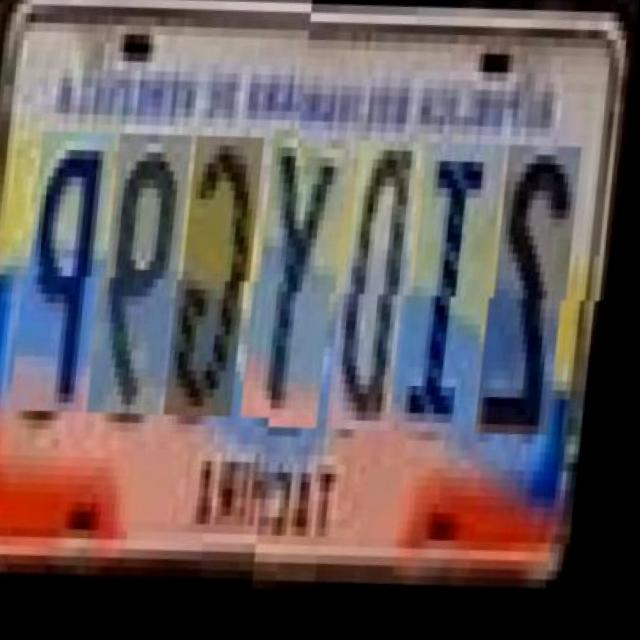2: (486, 148, 581, 442)
9: (95, 148, 190, 434)
d: (336, 145, 422, 439)
g: (172, 150, 263, 434)
i: (402, 146, 504, 440)
p: (18, 146, 113, 432)
y: (249, 142, 351, 437)
